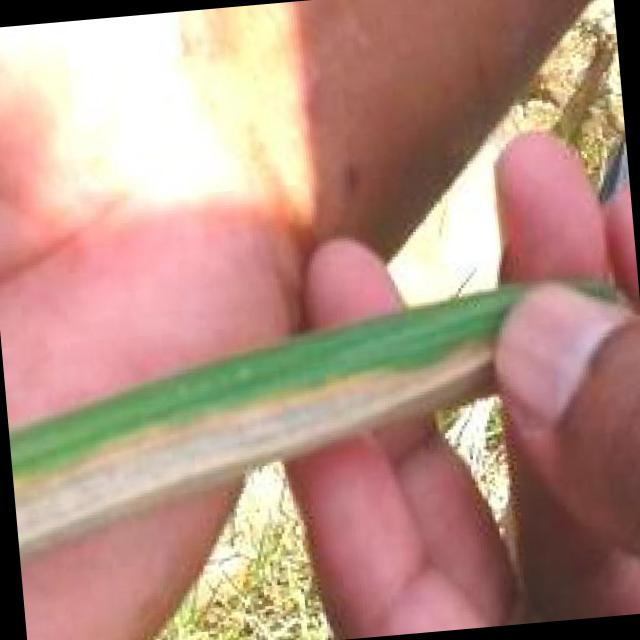Rice_Bacterial_Blight: (58, 338, 551, 480)
